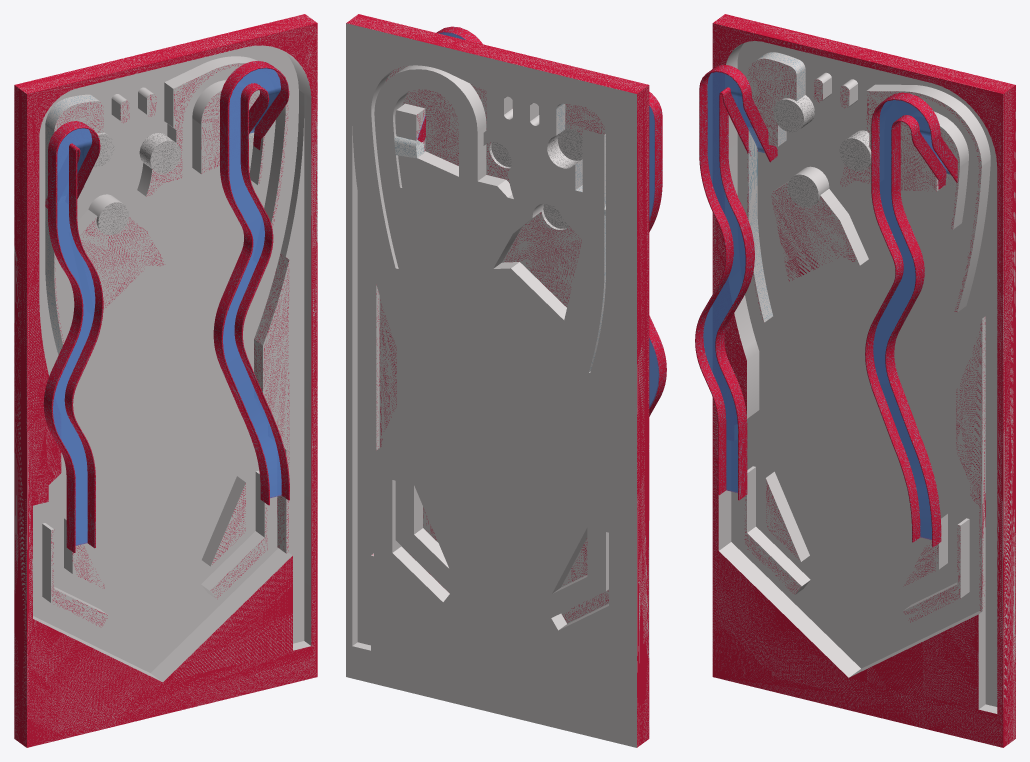
File: supreme.dae
The picture shows the model from 3 angles, left to right: view 1: azimuth 30°, elevation 25°; view 2: azimuth 150°, elevation 25°; view 3: azimuth 330°, elevation 25°; orthographic projection.
Parts seen in each view (by area): view 1: SketchUp (×26); view 2: SketchUp (×21); view 3: SketchUp (×28).
Boxes of the visible parts, x1,y1,x2,y2 form: SketchUp (×26): (14,14,317,747); SketchUp (×21): (346,14,666,747); SketchUp (×28): (695,14,1015,747).
Bounding box in the file's own units: 1850 × 384 × 3976.
